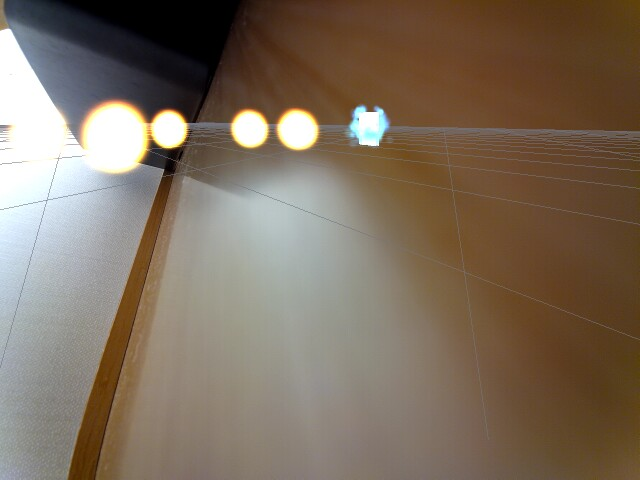fire: (77, 100, 151, 175), (9, 106, 66, 161), (275, 107, 321, 152), (229, 108, 271, 149), (151, 106, 188, 150)
